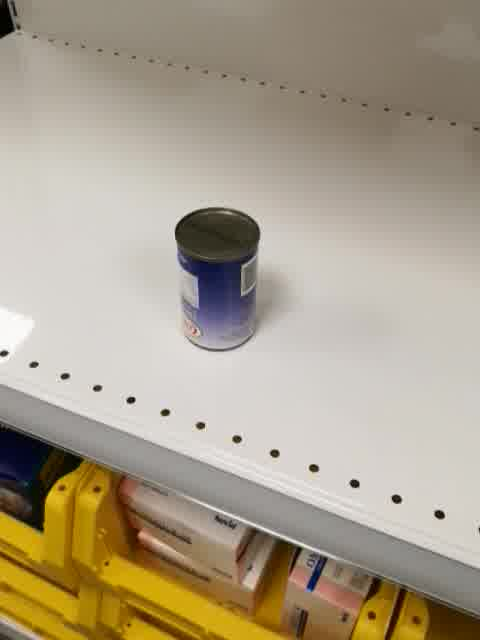sardine: (173, 207, 262, 352)
